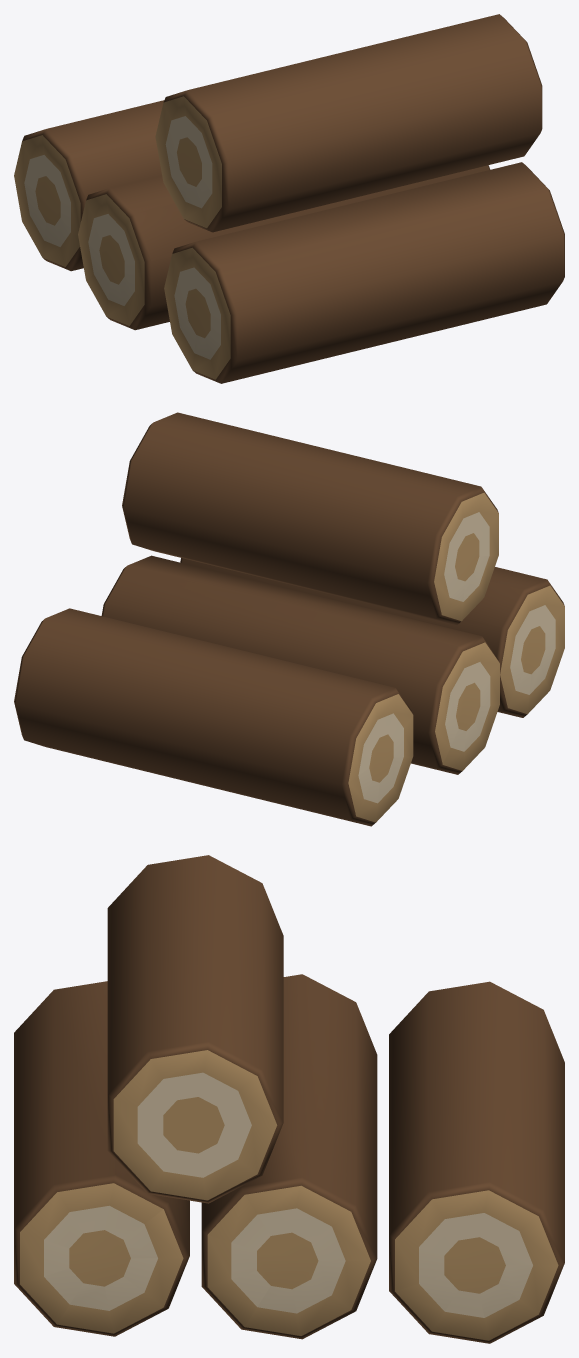
Rendered from log_pile.glb.
3 views of the same model, one above another, from view 1: azimuth 30°, elevation 25°; view 2: azimuth 150°, elevation 25°; view 3: azimuth 270°, elevation 25° (orthographic). The views are drawn at different scales.
Parts seen in each view (by area): view 1: Logs; view 2: Logs; view 3: Logs.
Boxes of the visible parts, bbox=[...] form: Logs: bbox=[14, 14, 564, 383]; Logs: bbox=[14, 412, 564, 826]; Logs: bbox=[14, 855, 564, 1343].
Bounding box in the file's own units: 1.68 × 1.11 × 1.82.
1 material, 1 textured.
